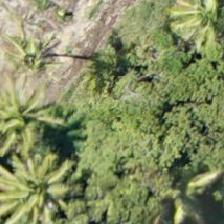coconut_tree: (1, 134, 91, 223), (0, 15, 79, 105), (0, 76, 66, 166), (33, 170, 123, 223), (166, 0, 223, 63)
